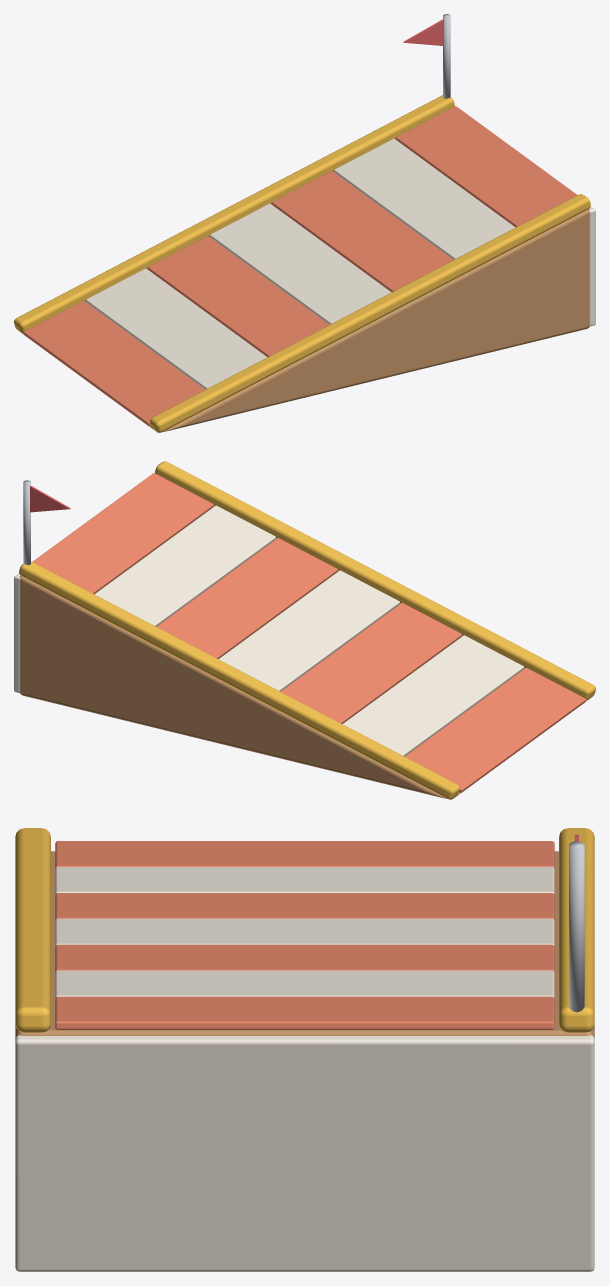
Rendered from ramp.glb.
3 renders of one model, top to bottom at view 1: azimuth 30°, elevation 25°; view 2: azimuth 150°, elevation 25°; view 3: azimuth 270°, elevation 25°, orthographic. The views are drawn at different scales.
Visible parts, largest first — view 1: Ramp_StripesAccent, Ramp_StripesShell, Ramp, Ramp_Rails, Ramp_Back, Ramp_Pole, Ramp_Pennant; view 2: Ramp_StripesAccent, Ramp_StripesShell, Ramp, Ramp_Rails, Ramp_Back, Ramp_Pole, Ramp_Pennant; view 3: Ramp_Back, Ramp_StripesAccent, Ramp_StripesShell, Ramp_Rails, Ramp, Ramp_Pole.
Boxes of the visible parts, x1,y1,x2,y2 form: Ramp_StripesAccent: (23,106,577,425); Ramp_StripesShell: (85,138,515,389); Ramp: (18,139,589,432); Ramp_Rails: (14,95,590,432); Ramp_Back: (589,206,595,326); Ramp_Pole: (443,14,450,98); Ramp_Pennant: (403,19,443,45); Ramp_StripesAccent: (32,473,586,792); Ramp_StripesShell: (94,505,523,756); Ramp: (20,506,591,799); Ramp_Rails: (19,461,595,799); Ramp_Back: (14,573,20,693); Ramp_Pole: (23,480,30,565); Ramp_Pennant: (30,485,70,512); Ramp_Back: (15,1035,594,1271); Ramp_StripesAccent: (55,841,554,1029); Ramp_StripesShell: (55,867,554,998); Ramp_Rails: (15,828,594,1032); Ramp: (15,851,594,1038); Ramp_Pole: (569,841,584,1012).
Size of the model in its own units: 4.56 by 2.1 by 2.6.
